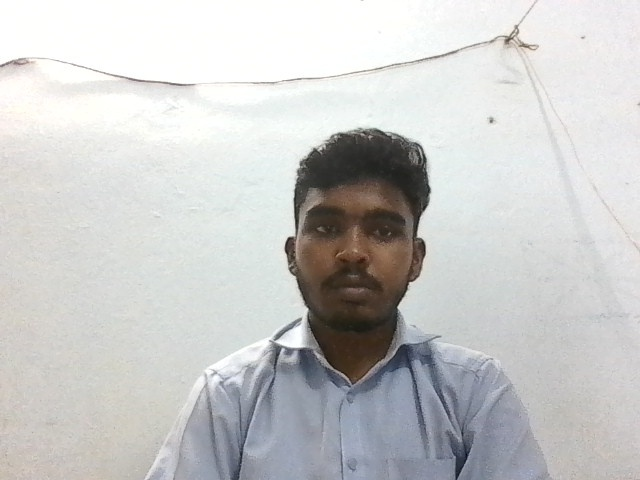real: (287, 140, 426, 337)
